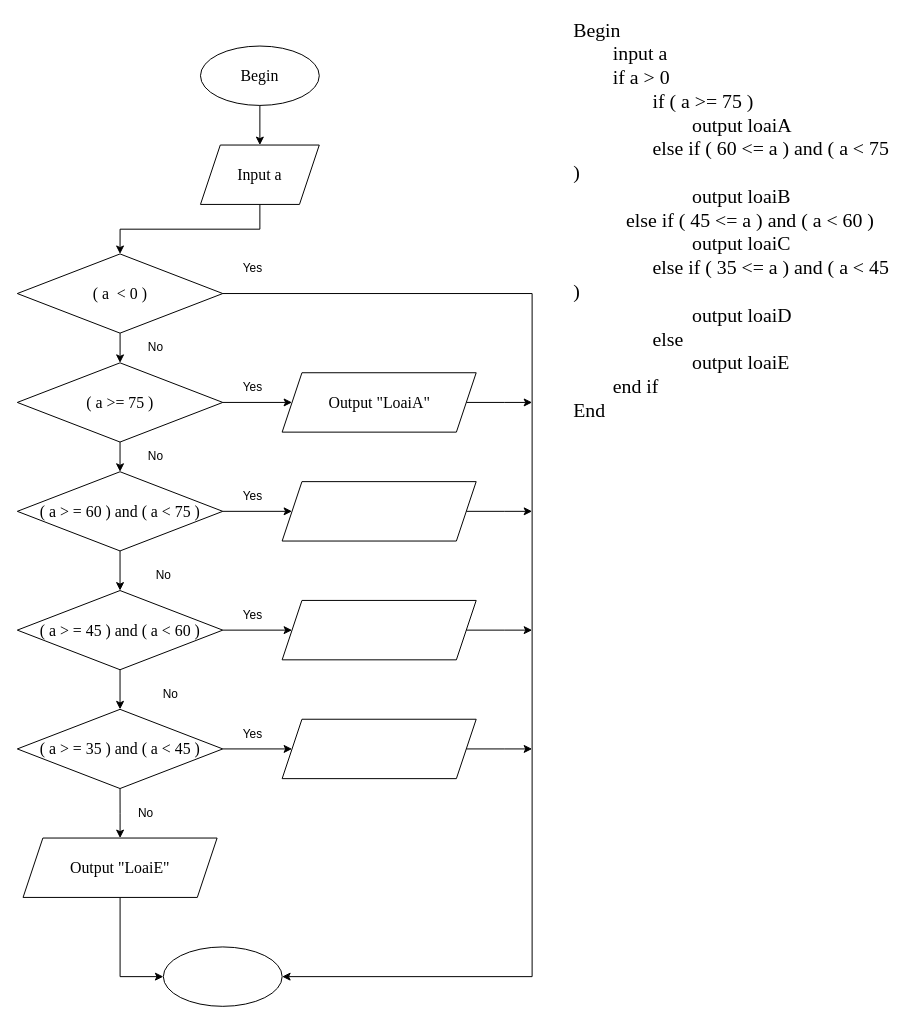
This 916x1024 diagram has some shape labels left out. Each missing label, with the centre of its shape:
End: pixel 222 976
Output "LoaiB": pixel 378 511
Output "LoaiC": pixel 378 629
Output "LoaiD": pixel 378 748
